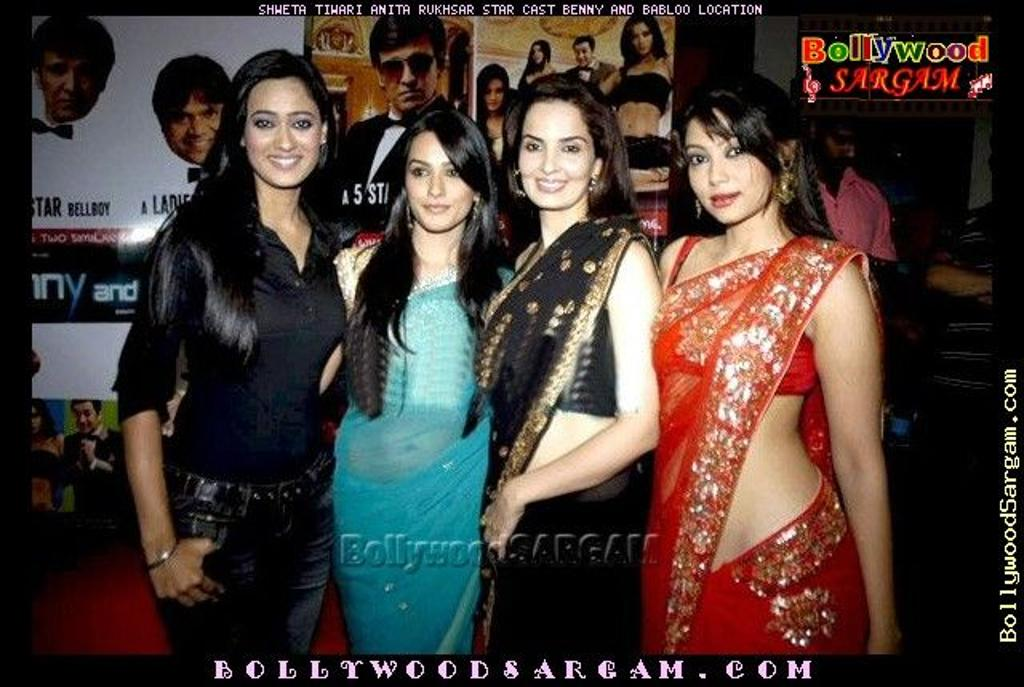face: (682, 108, 774, 224), (244, 81, 321, 186), (518, 102, 592, 209), (406, 135, 472, 232), (166, 91, 226, 163), (41, 52, 99, 120), (380, 40, 436, 110), (629, 24, 653, 54), (72, 404, 96, 433), (483, 78, 503, 111), (574, 42, 590, 66), (31, 405, 40, 434), (531, 47, 542, 64)
